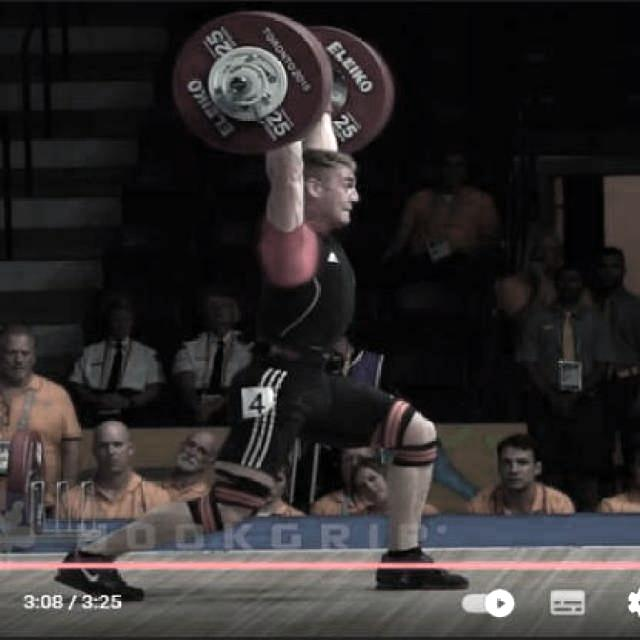barbell: (171, 6, 330, 158)
